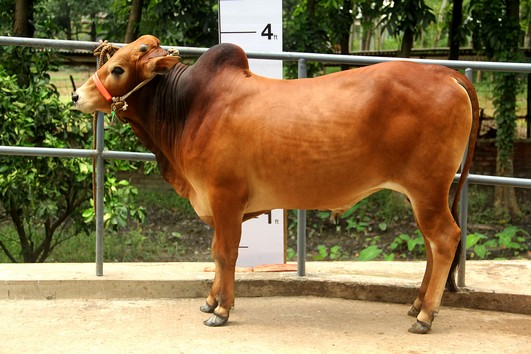cow: (62, 27, 483, 343)
